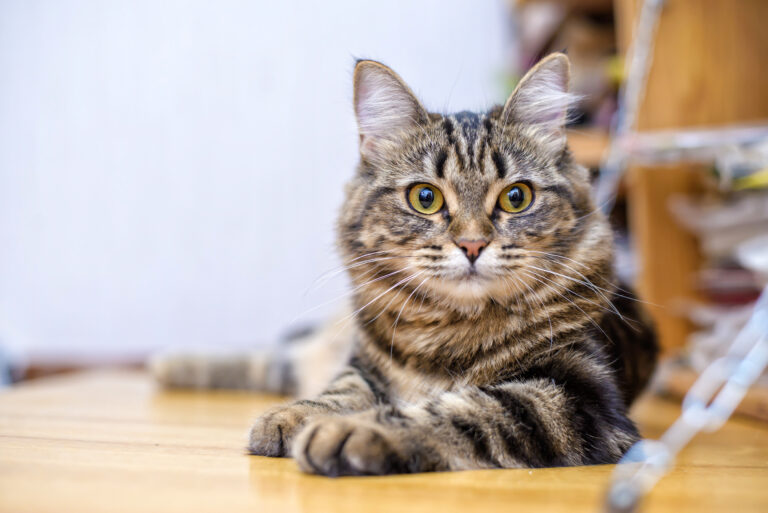cat: (265, 41, 658, 456)
